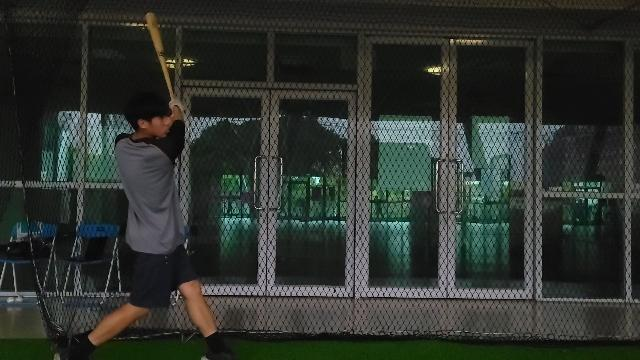bat: (146, 12, 174, 100)
